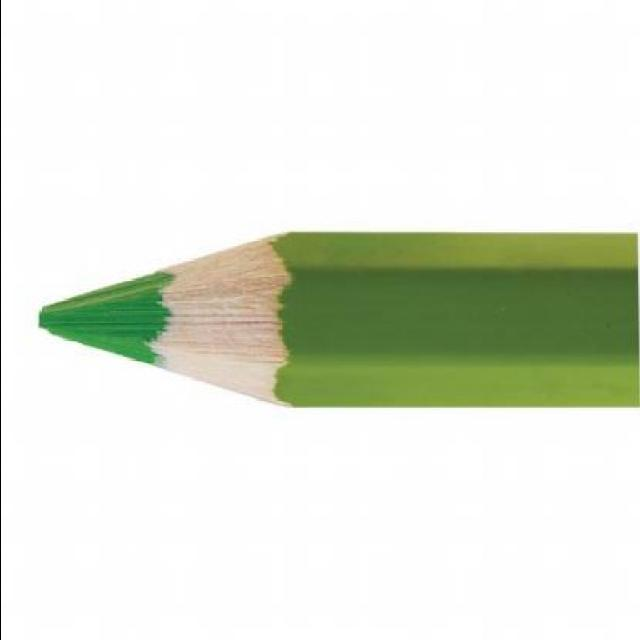Pencil: (16, 204, 372, 440)
